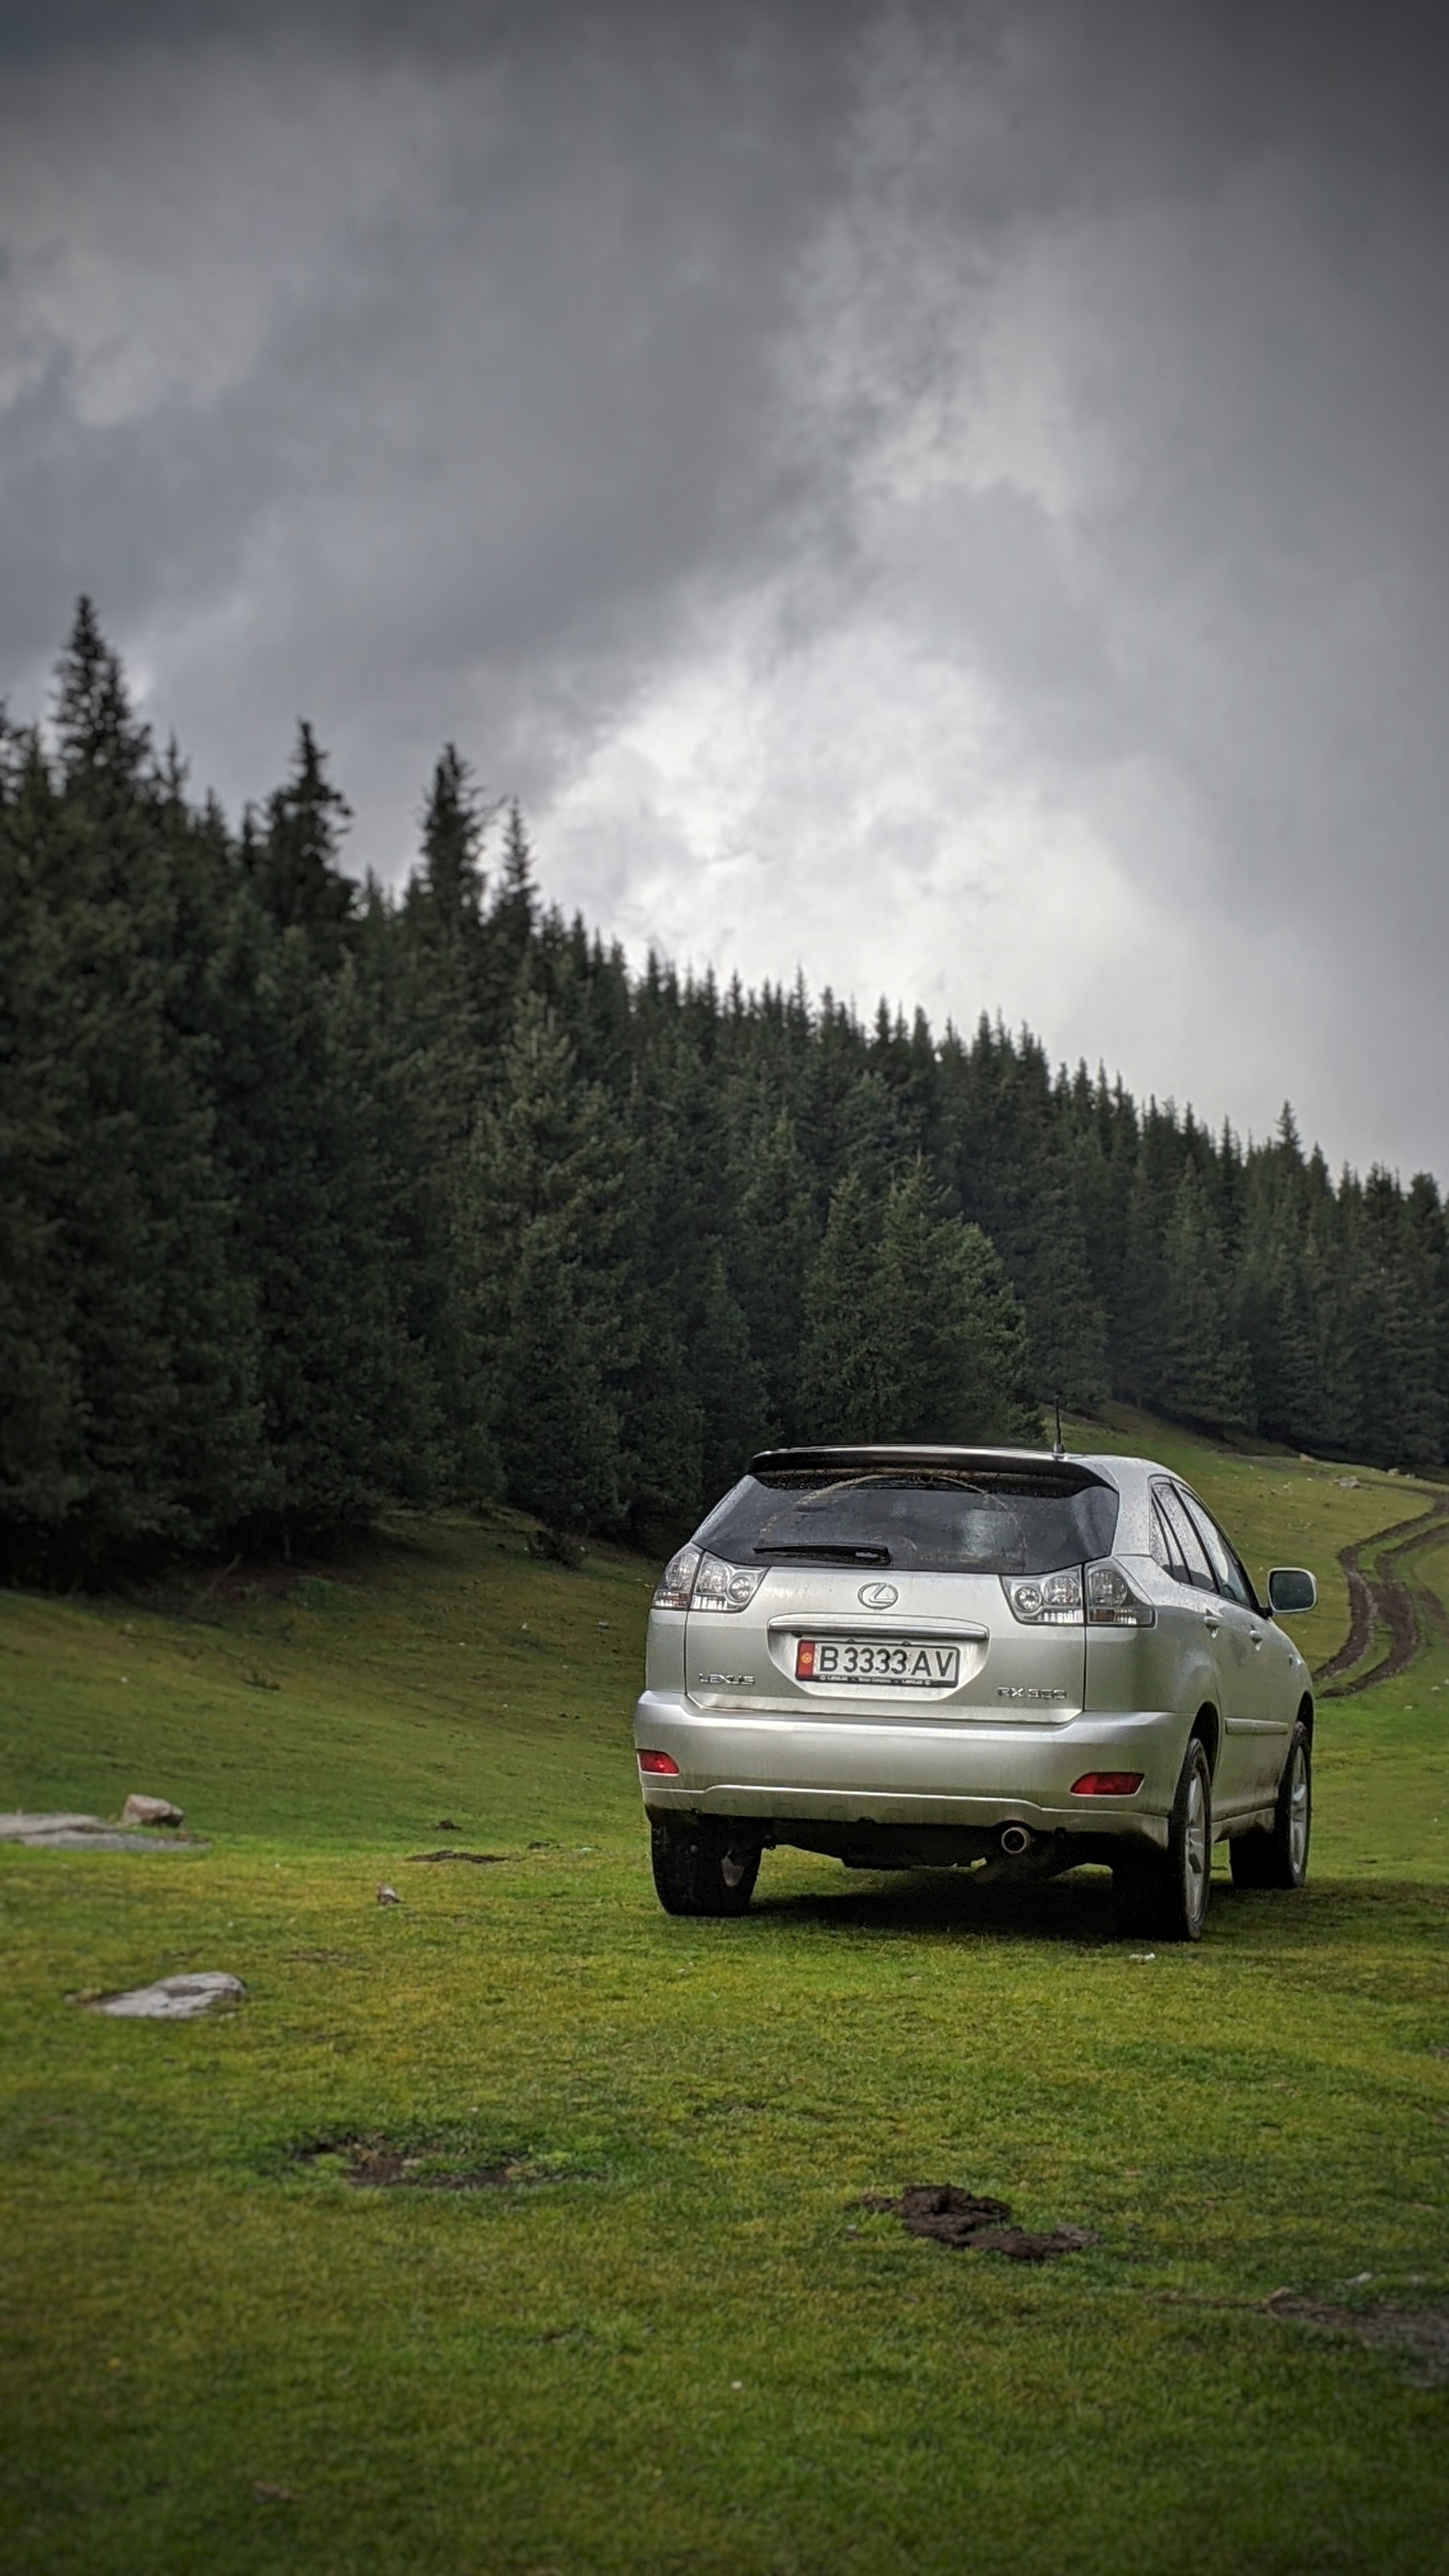plaka: (796, 1640, 960, 1688)
